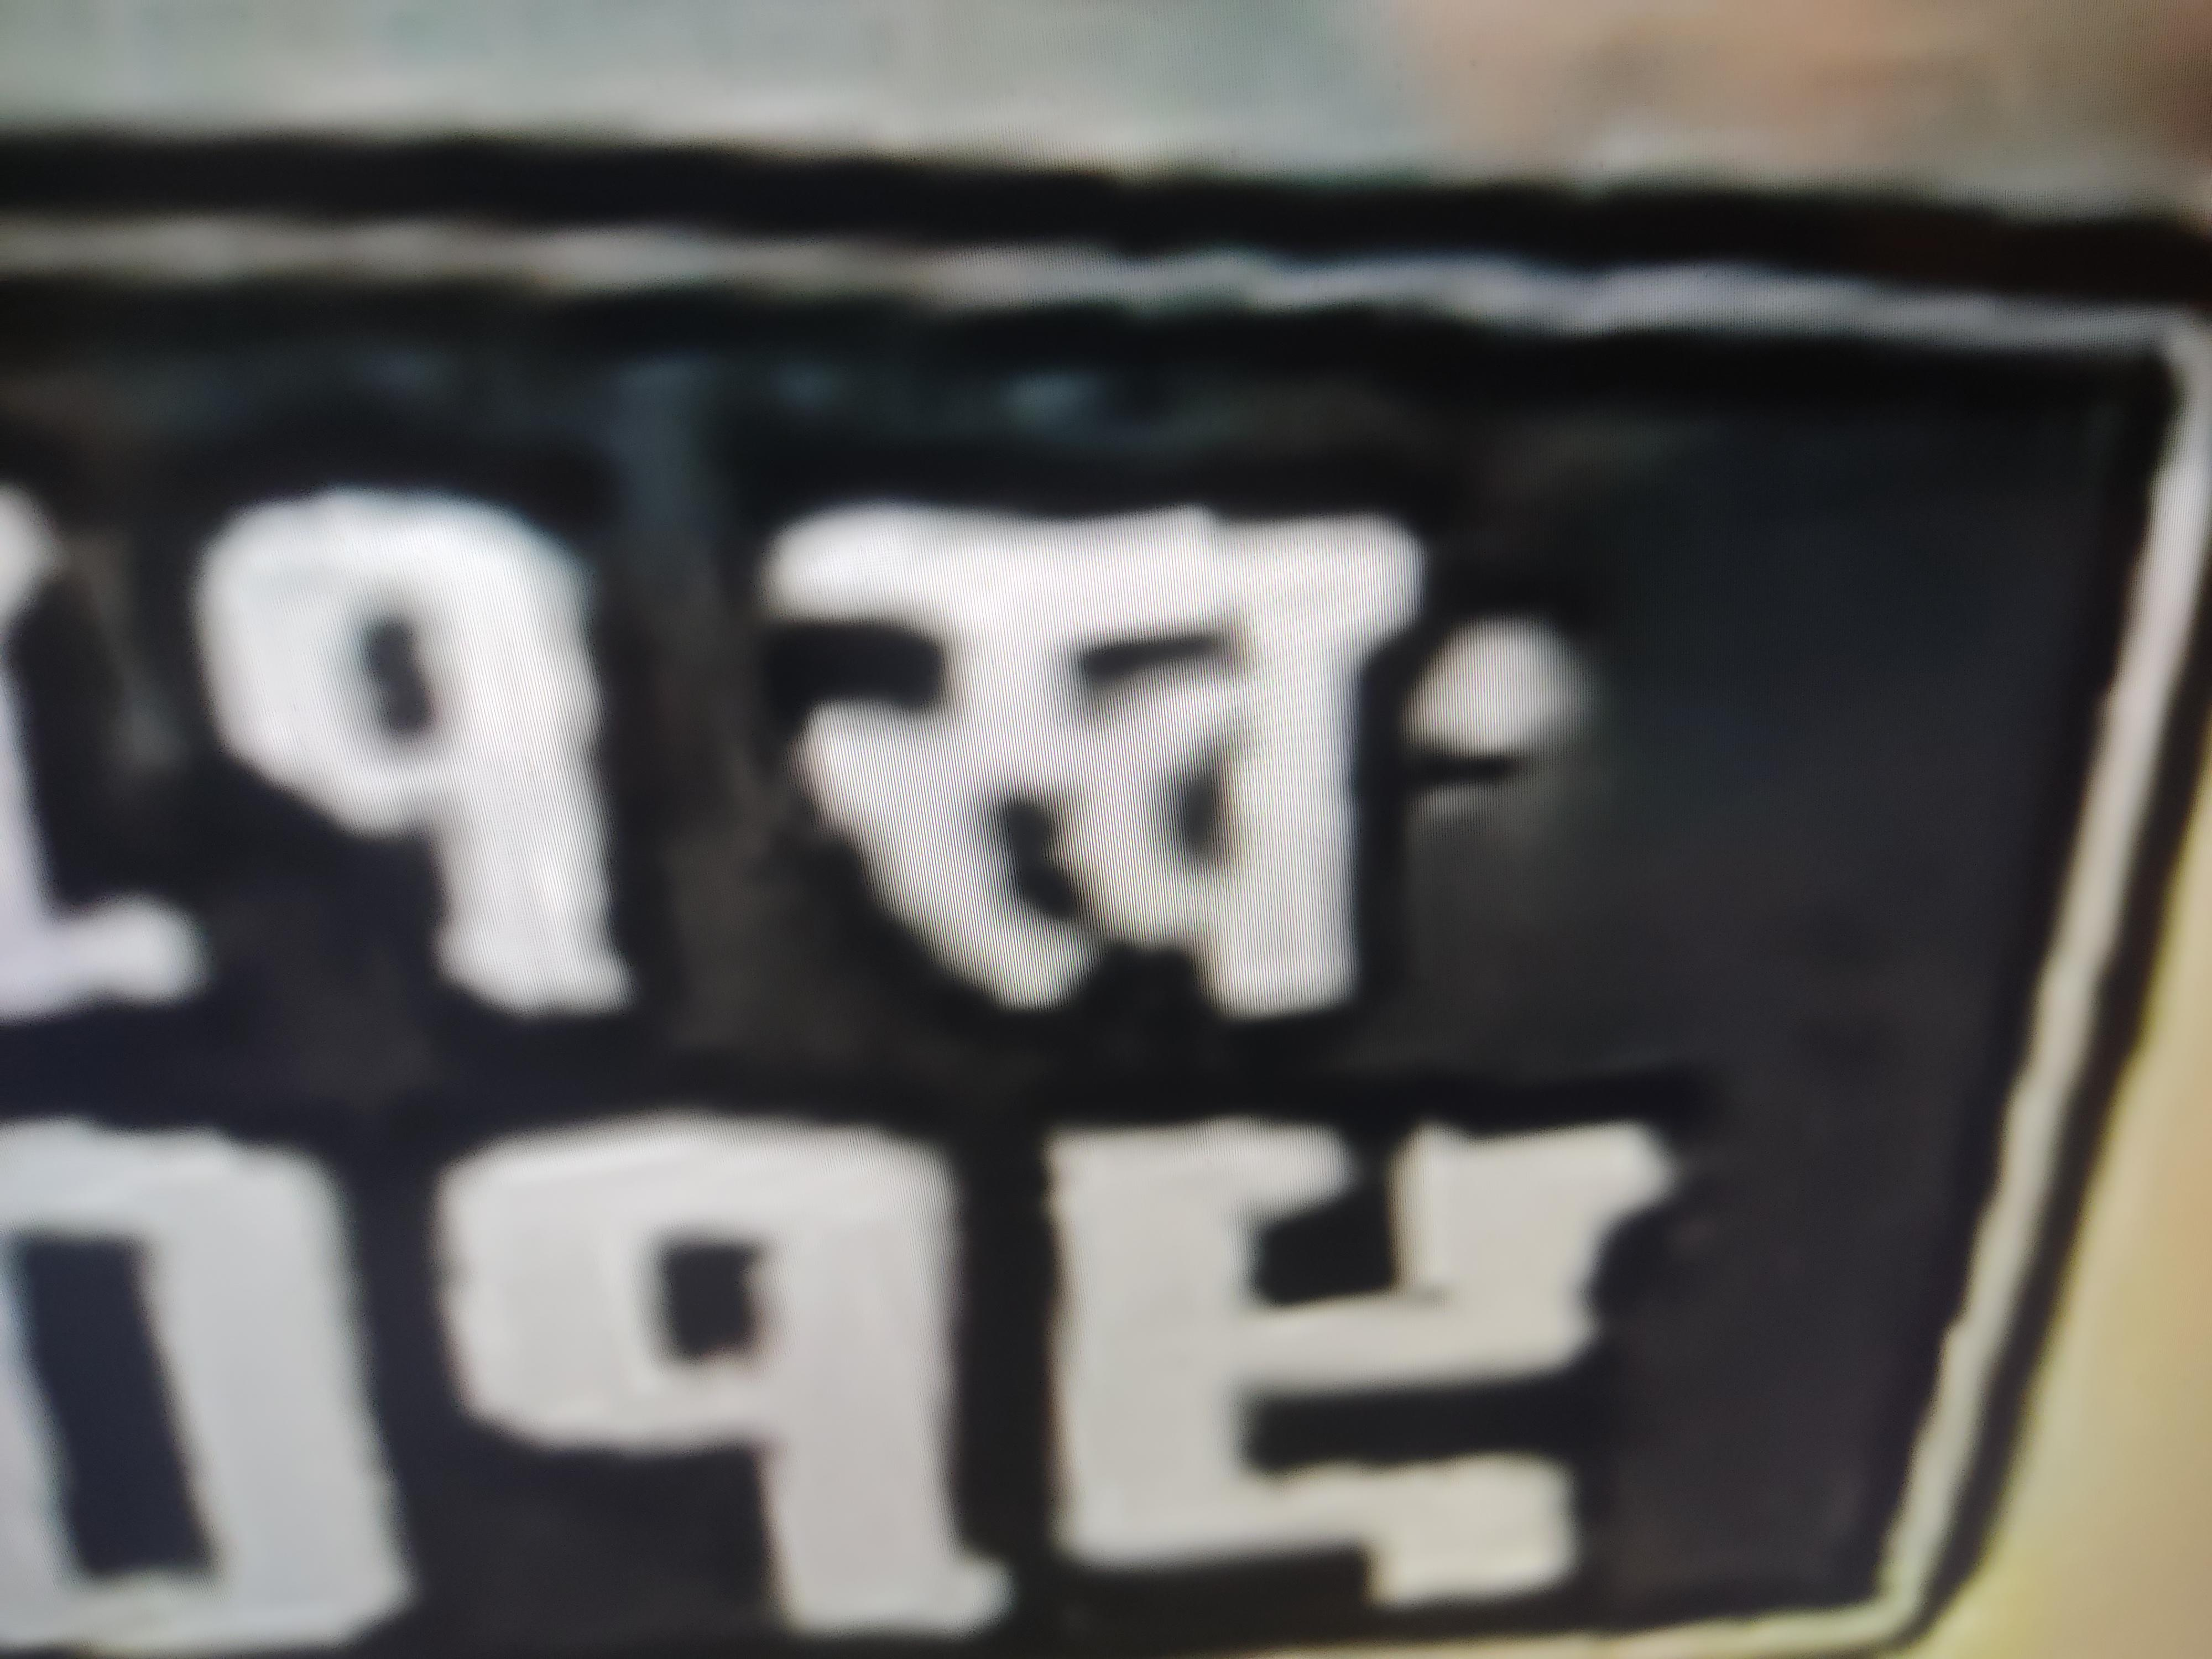1: (390, 1093, 1036, 1644), (175, 457, 702, 1040)
9: (1054, 1123, 1690, 1647)
kha: (719, 471, 1410, 1083)
